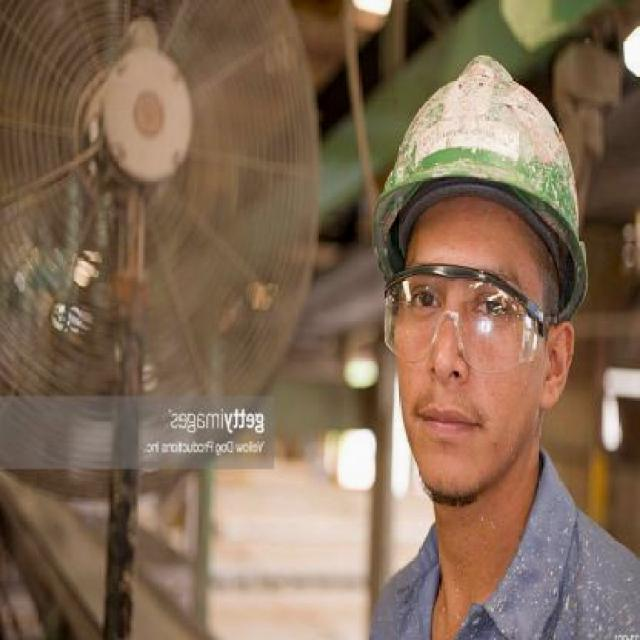face_nomask: (398, 260, 538, 452)
glasses: (381, 259, 554, 376)
head_helmet: (369, 45, 580, 246)
person: (351, 58, 640, 640)
